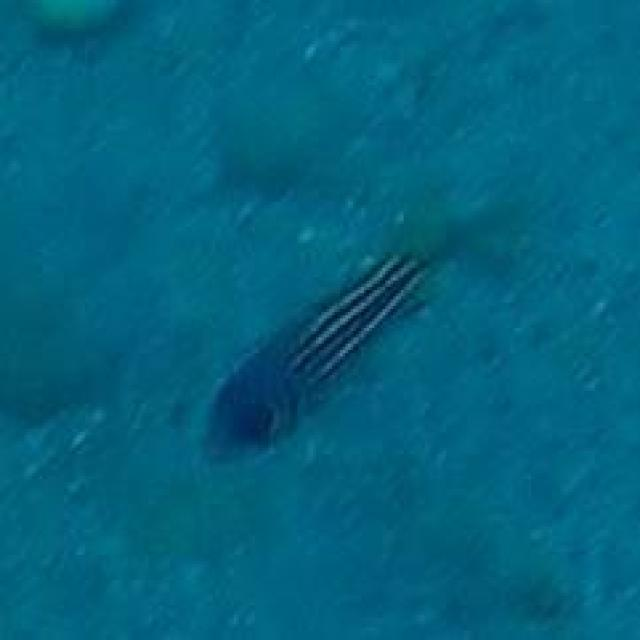Asker Baligi: (197, 240, 438, 463)
